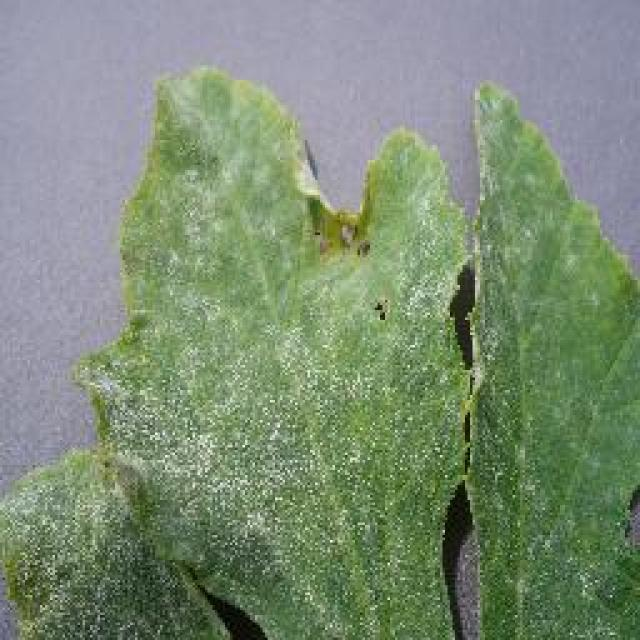Squ_Powdery_mildew: (110, 246, 437, 597)
